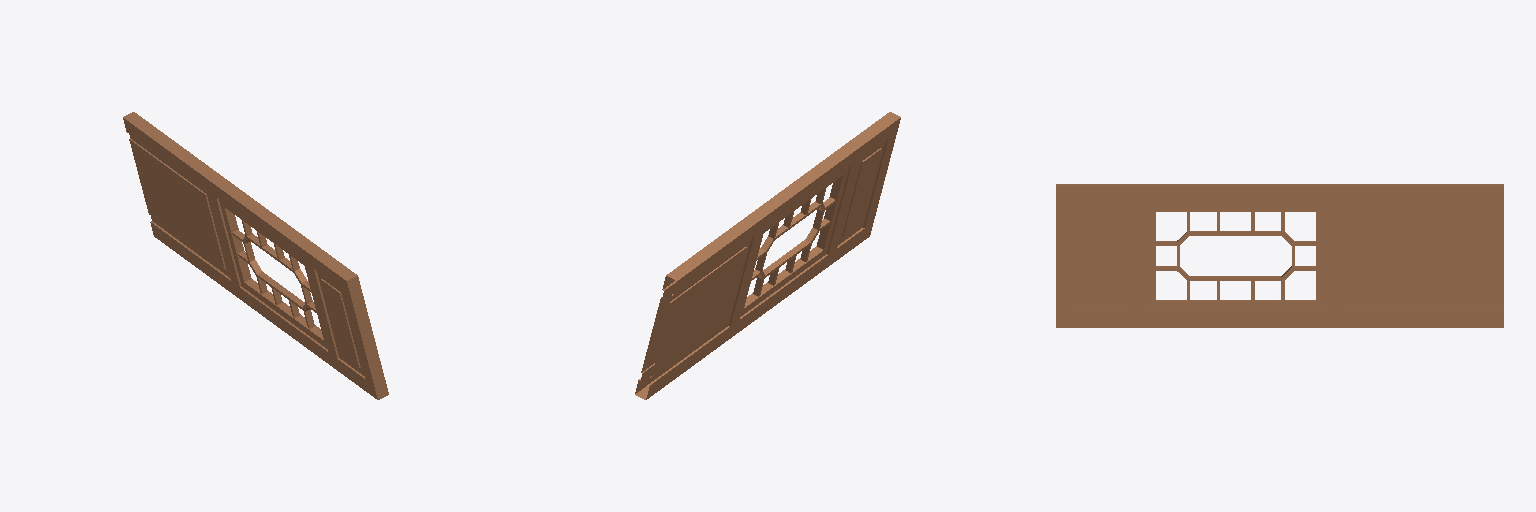
File: 02_door2.obj
3 views of the same model, side by side, from view 1: azimuth 30°, elevation 25°; view 2: azimuth 150°, elevation 25°; view 3: azimuth 270°, elevation 25° (orthographic).
Parts seen in each view (by area): view 1: 02_door.section; view 2: 02_door.section; view 3: 02_door.section.
Boxes of the visible parts, x1,y1,x2,y2 form: 02_door.section: [123, 112, 388, 399]; 02_door.section: [635, 112, 900, 399]; 02_door.section: [1056, 184, 1503, 327].
Bounding box in the file's own units: 0.2202 × 0.6444 × 2.02.